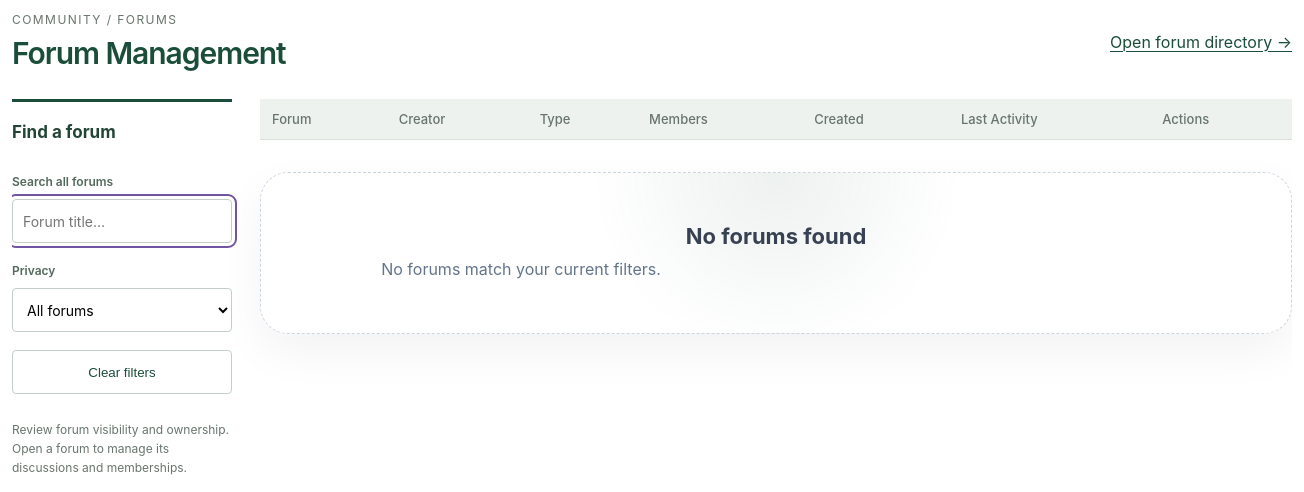
Test: search remains focused during loading, and a failed search can be retried
The image size is (1304, 492).
Type "geometry" into the search field labelled "Search all forums" at (122, 221), box [12, 199, 232, 243]
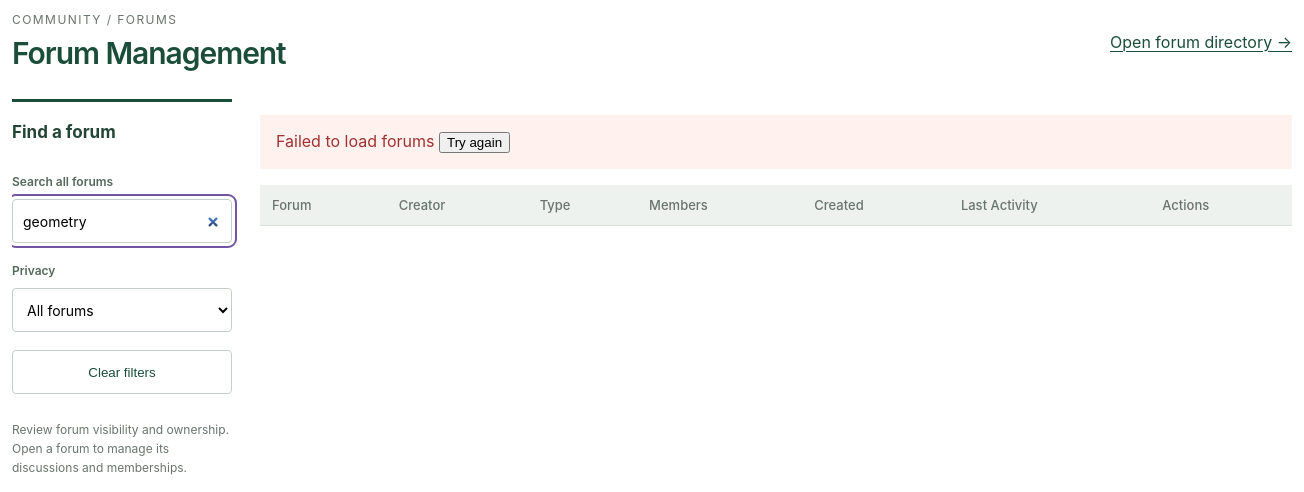
Expected: the message shows "Failed to load forums", [276, 131, 434, 151]
Click the button "Try again" at (475, 142), box [439, 132, 510, 153]
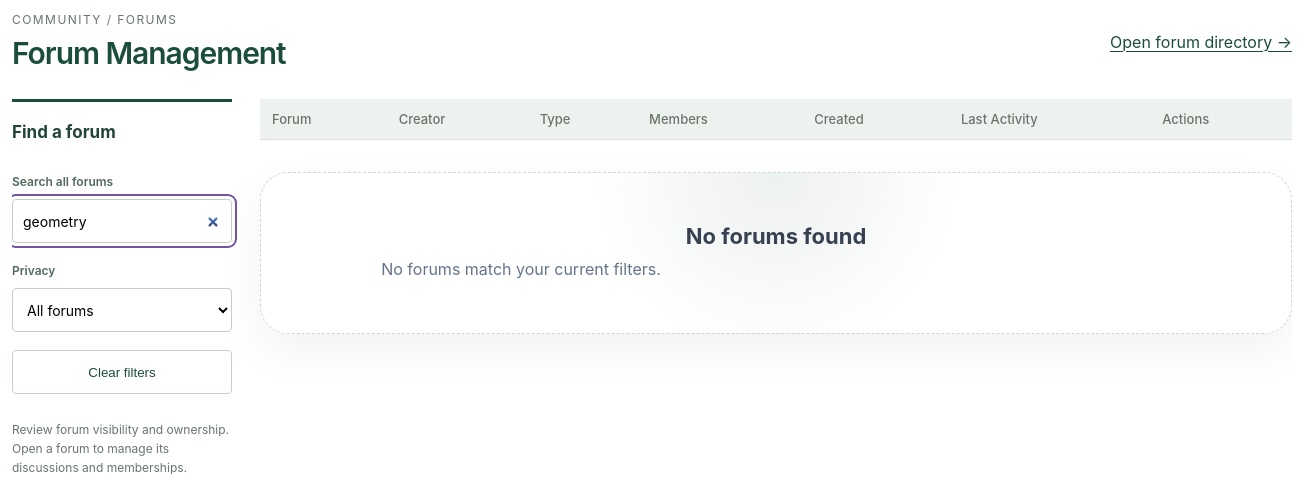
Expected: the message "Failed to load forums Try again" is gone
